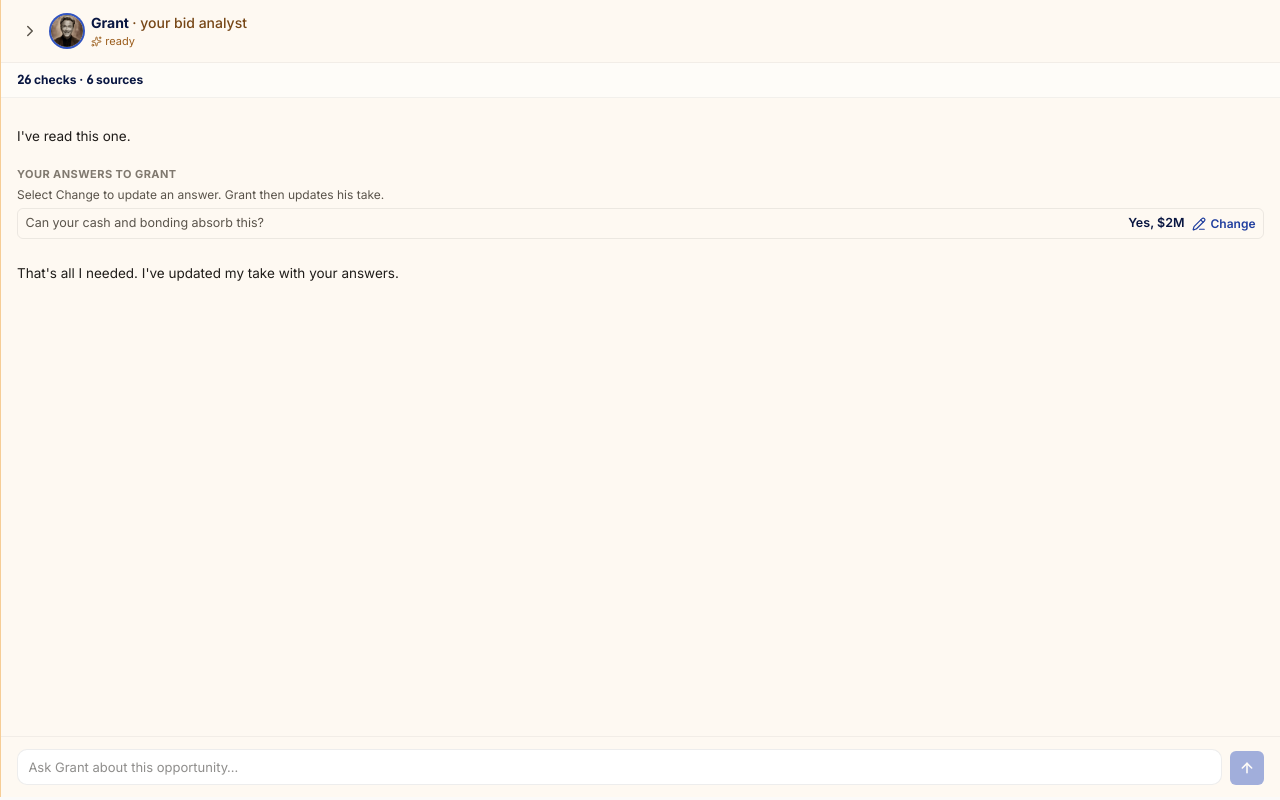
Test: GrantRail — answered questions are revisable (edit answers) › shows a Change label and a hint; clicking Change opens the edit card
Check: the text "Select Change to update an answer. Grant then updates his take." is shown, box [17, 187, 384, 202]
Click the text "Change".
click(1224, 224)  # box [1192, 215, 1256, 233]
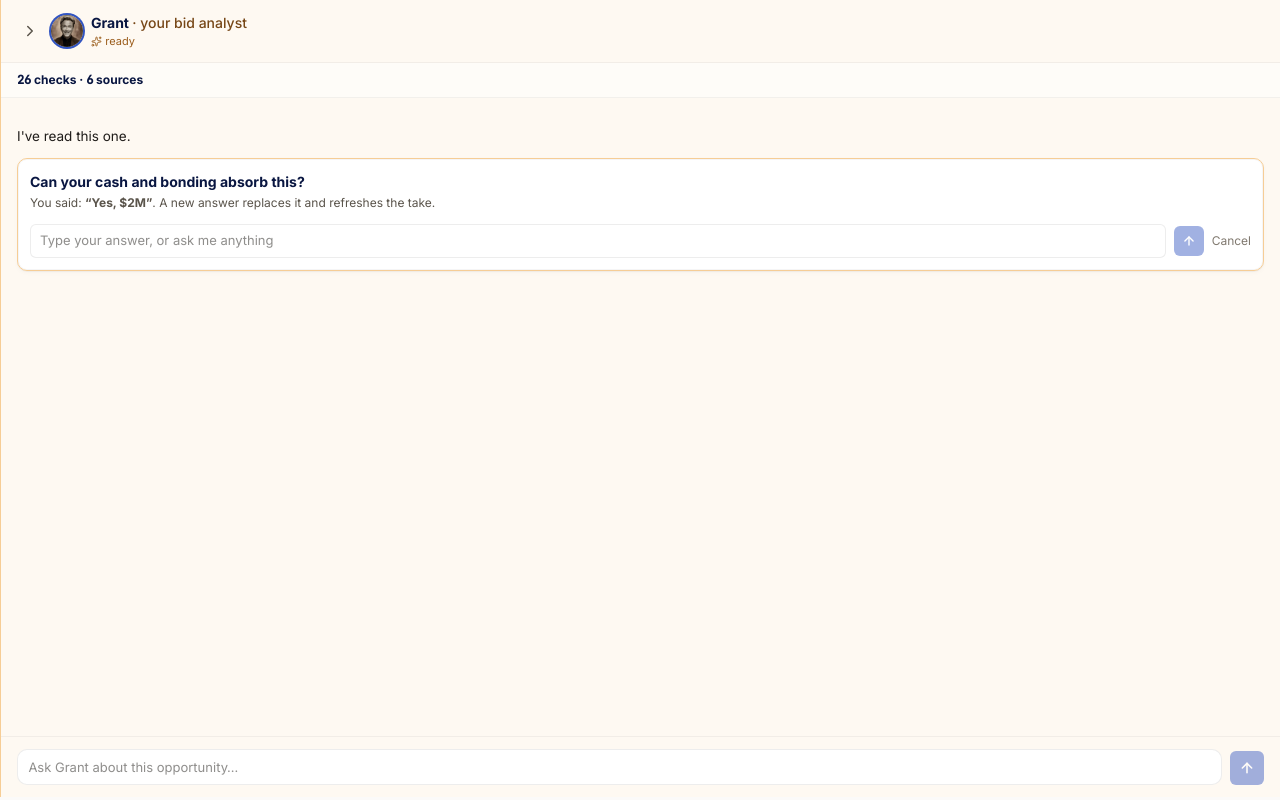
Check: the text "“Yes, $2M”" is shown, box [85, 195, 152, 210]
Check: the button "Cancel" is shown, box [1212, 232, 1251, 250]
